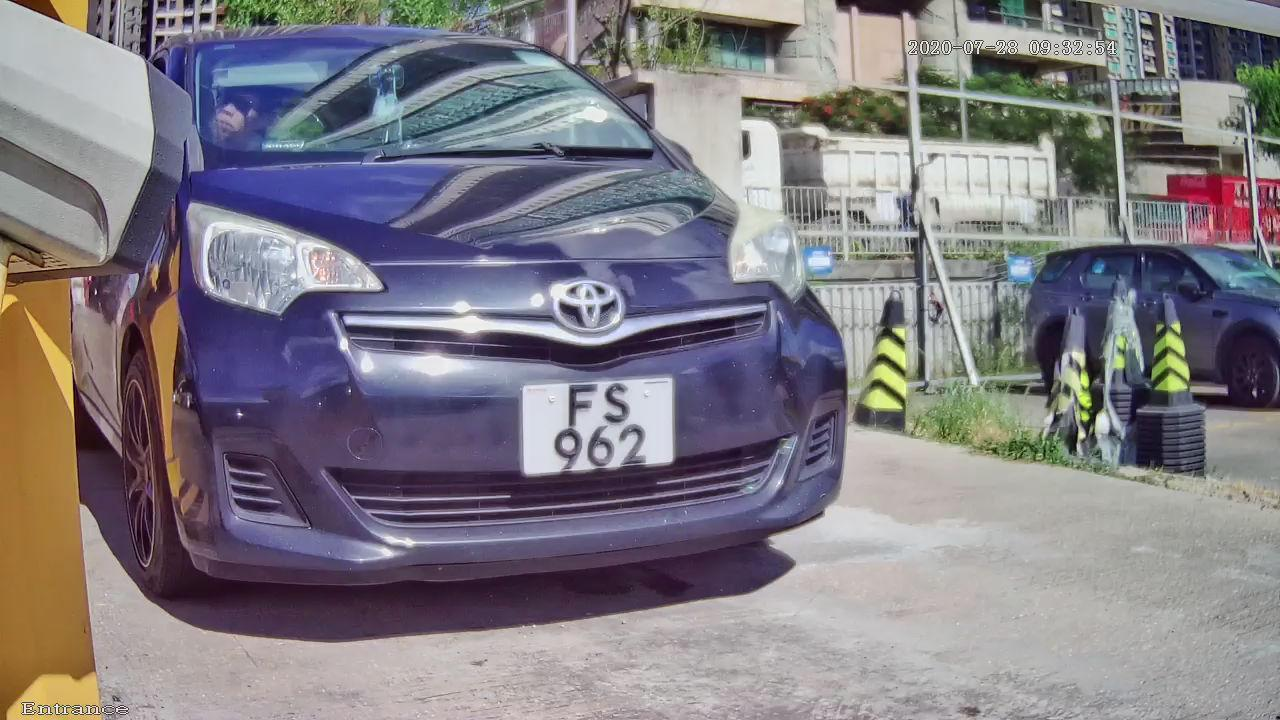privatecar: (6, 10, 966, 653)
